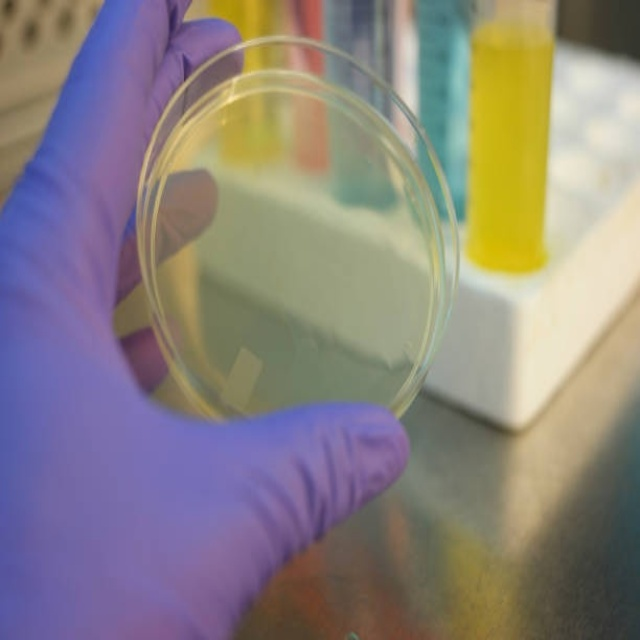Guantes: (4, 5, 414, 631)
